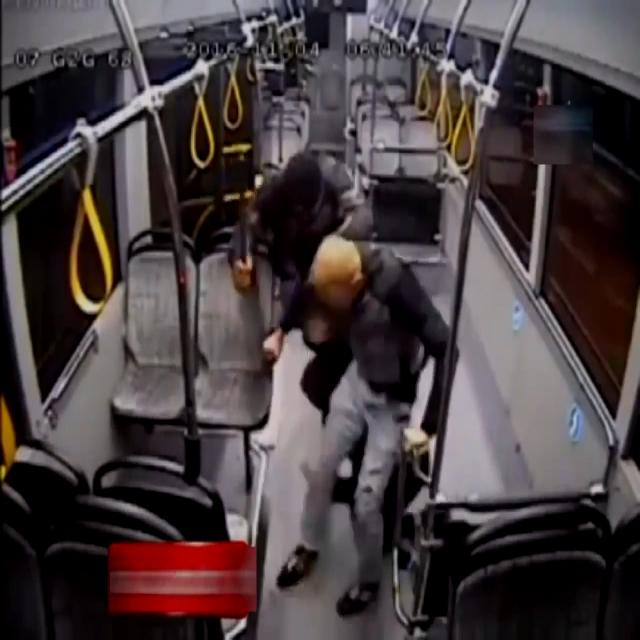fight: (238, 139, 440, 590)
